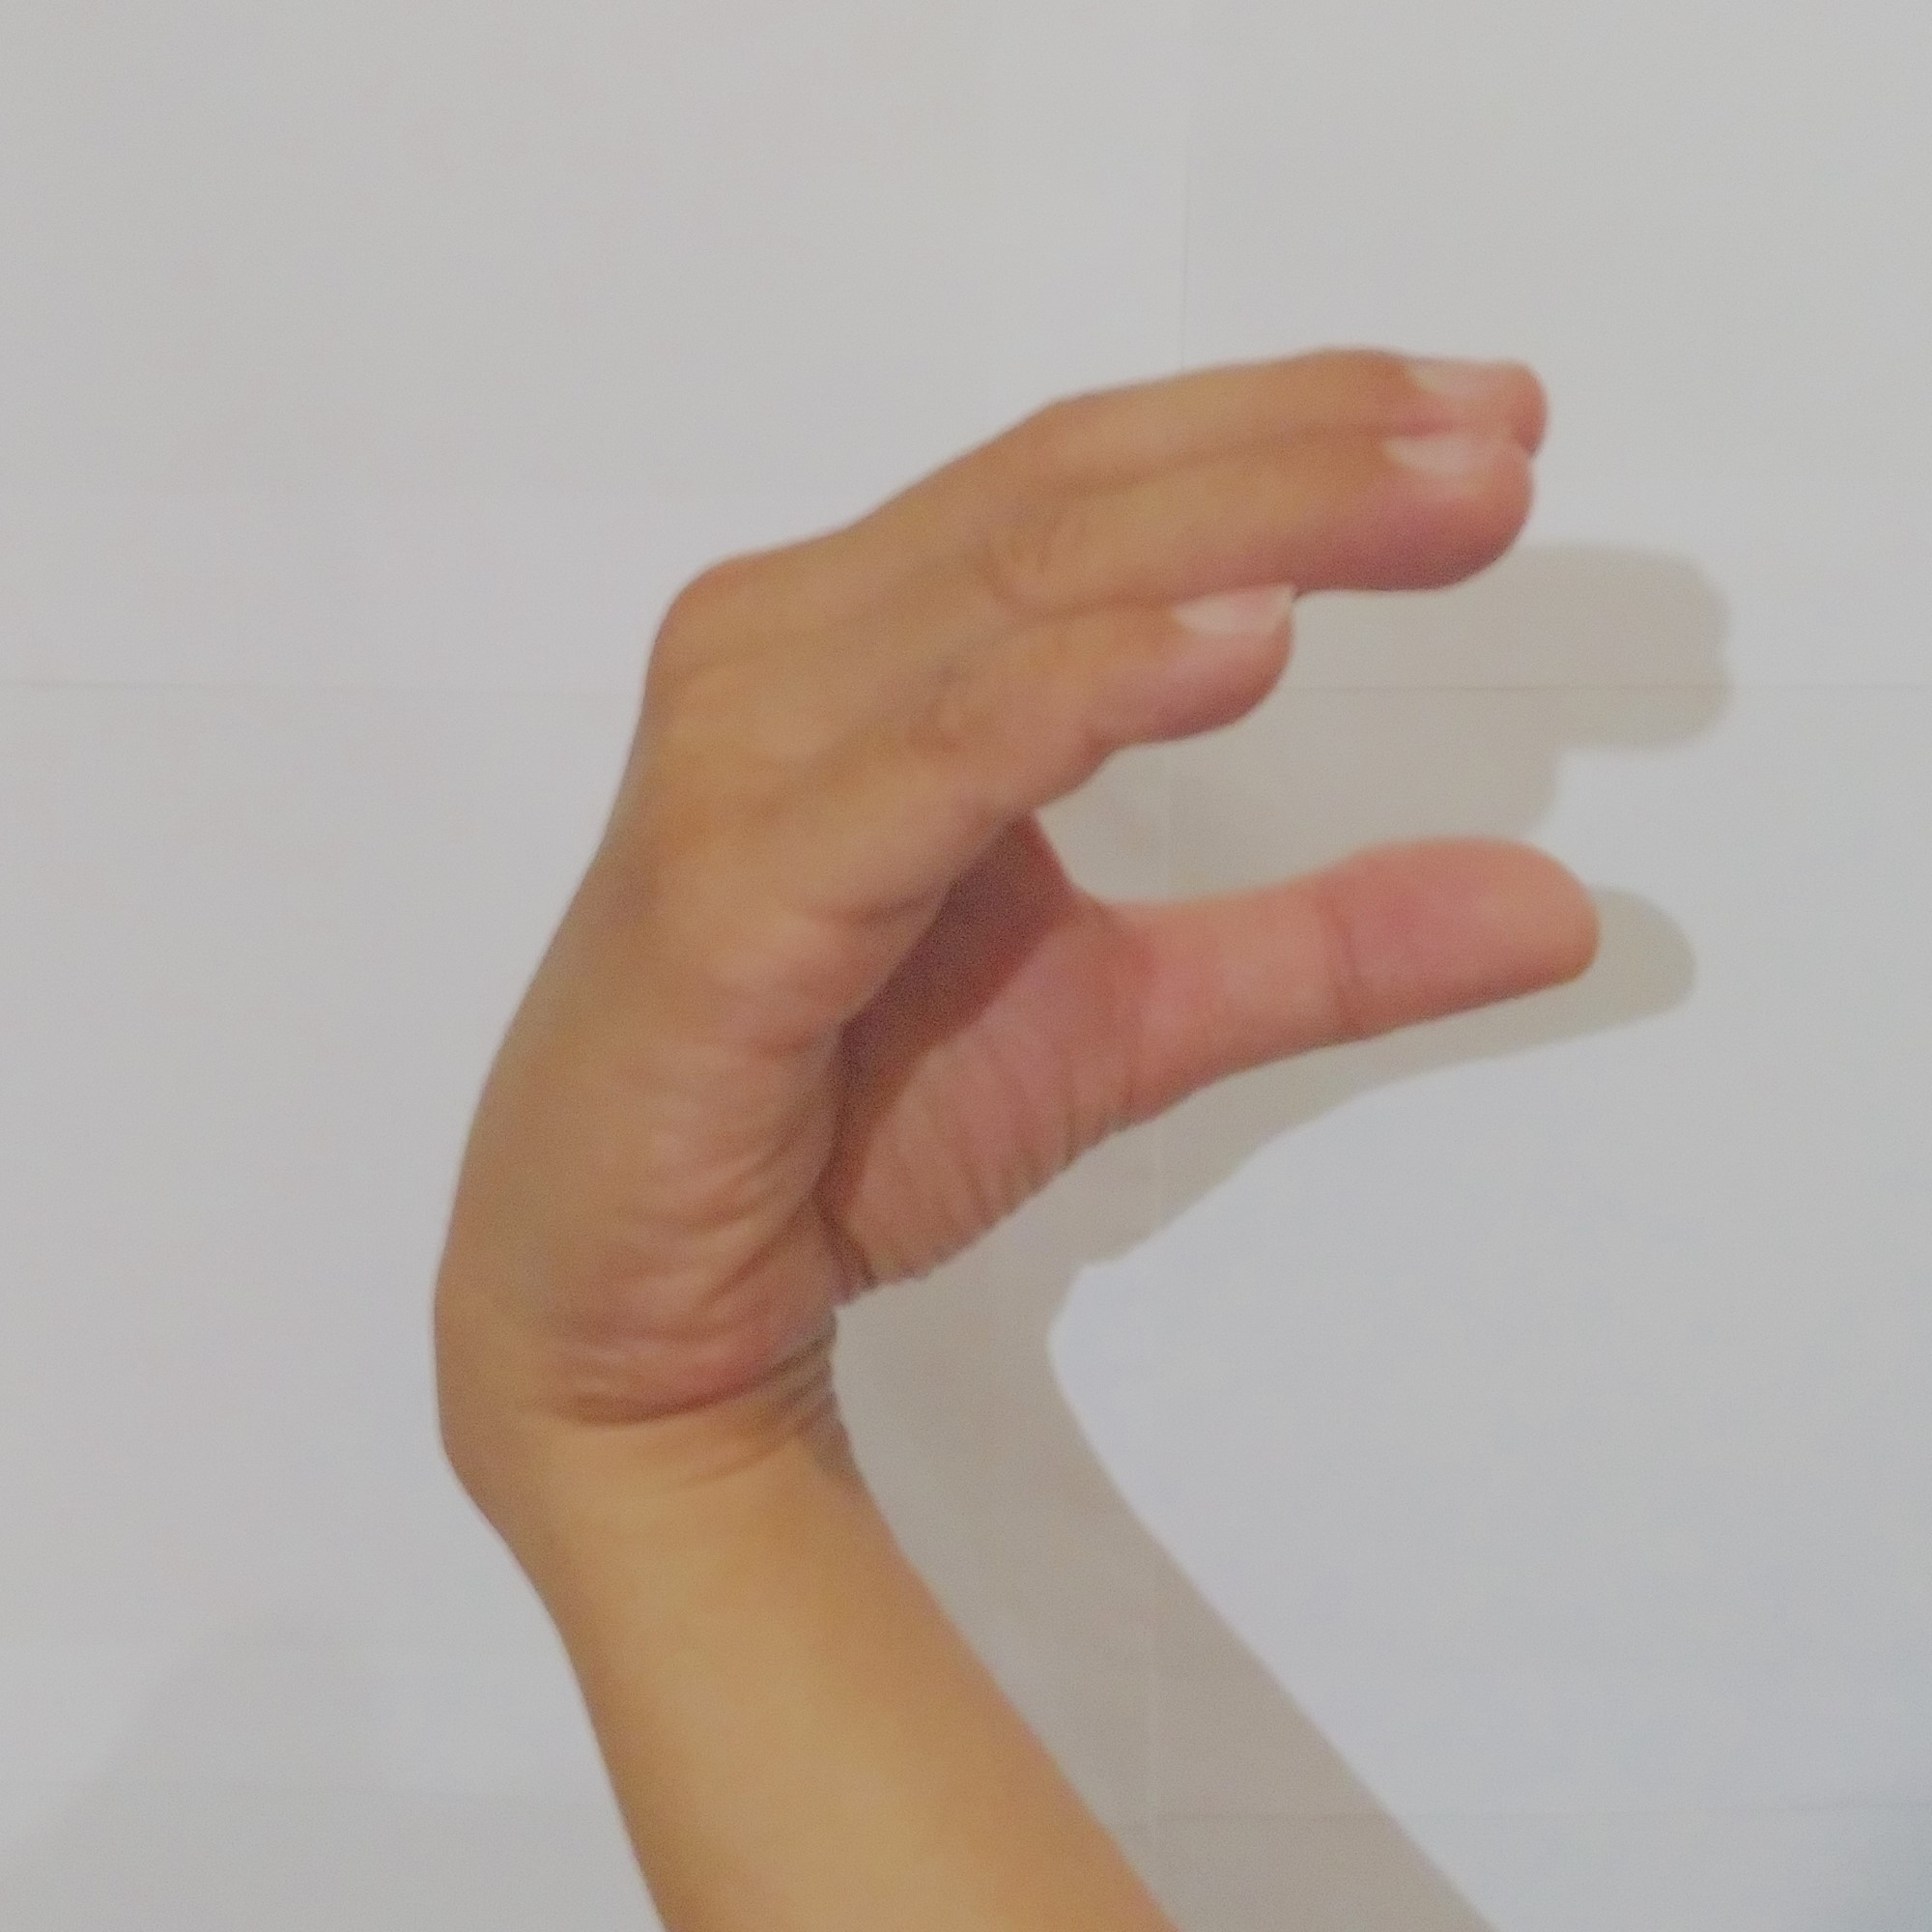C: (441, 320, 1629, 1392)
